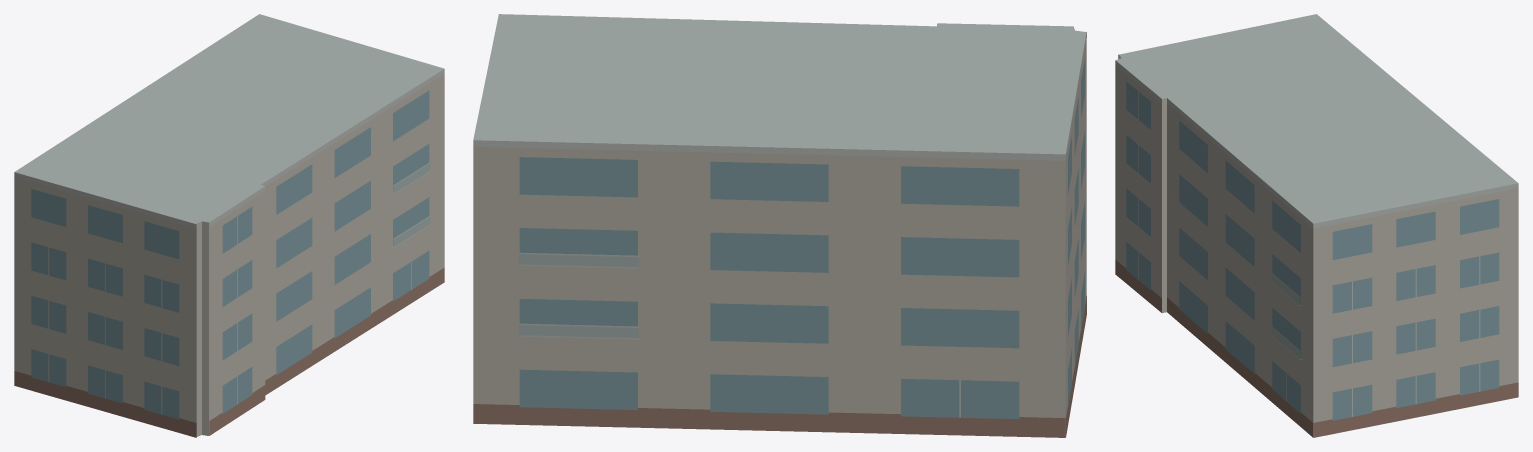
File: survey-upis-32772014.glb
3 views of the same model, side by side, from view 1: azimuth 30°, elevation 25°; view 2: azimuth 150°, elevation 25°; view 3: azimuth 270°, elevation 25° (orthographic). The views are drawn at different scales.
Parts seen in each view (by area): view 1: survey-upis-32772014.tmp; view 2: survey-upis-32772014.tmp; view 3: survey-upis-32772014.tmp.
Part boxes in pixels (x1=…): survey-upis-32772014.tmp: x1=14, y1=14, x2=444, y2=437; survey-upis-32772014.tmp: x1=473, y1=14, x2=1086, y2=437; survey-upis-32772014.tmp: x1=1115, y1=14, x2=1518, y2=437.
Size of the model in its own units: 22.28 by 10.6 by 18.1.
